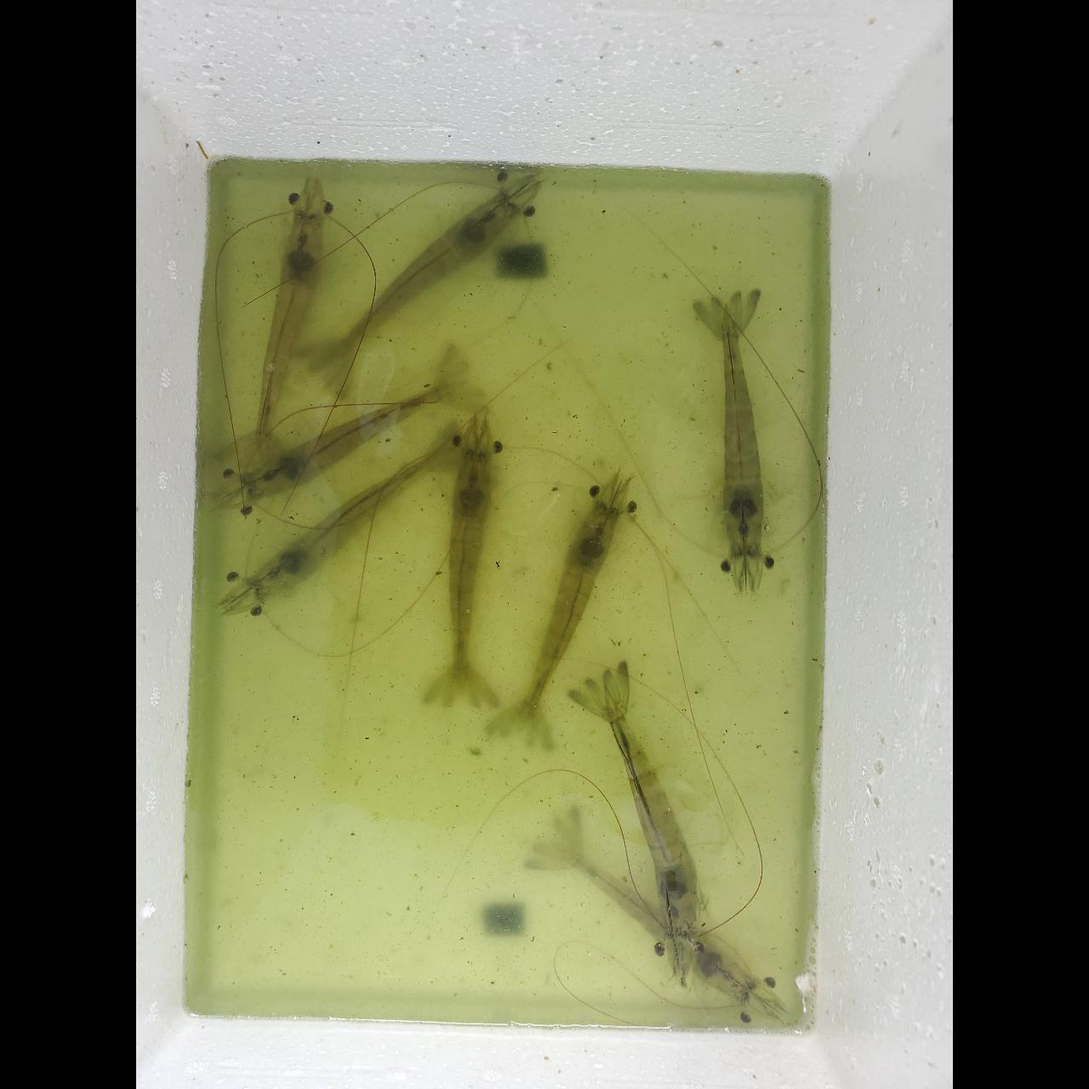box: (498, 241, 549, 282), (486, 902, 527, 938)
top_shrimp: (321, 196, 516, 373), (549, 838, 753, 998), (251, 445, 458, 595), (248, 379, 473, 499), (605, 684, 700, 938), (518, 508, 619, 734), (255, 213, 324, 460), (449, 453, 493, 701), (722, 304, 763, 556)
